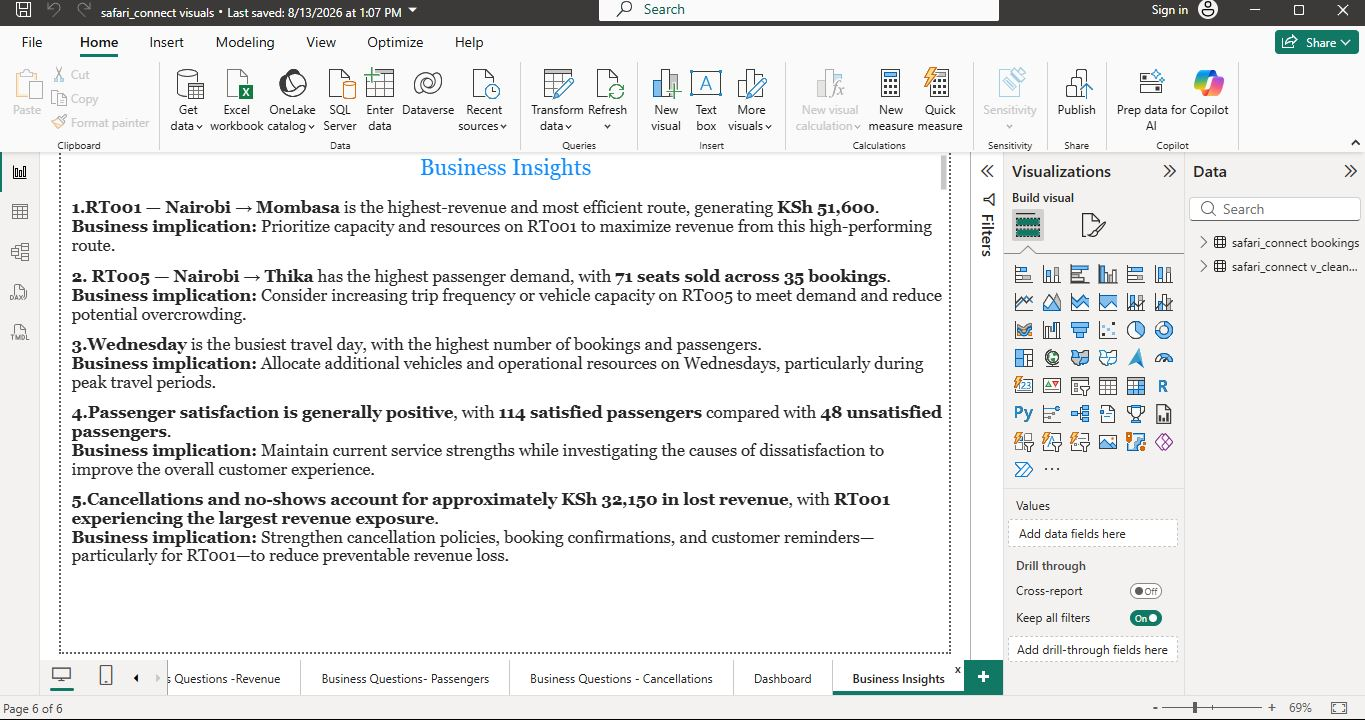

The page's visual inventory and layout, read from the dashboard file:
{"tool":"powerbi","page":{"name":"Business Insights","canvas":[1280,720],"ordinal":5},"visuals":[{"type":"textbox","box":[10.1,0,1269.9,60.8],"z":0},{"type":"textbox","box":[10.1,60.8,1269.9,634.9],"z":1000}]}

Visuals, with their boxes on the page's 1280x720 design canvas (x1, y1, x2, y2). These are canvas units, not pixel positions in the 1365x720 screenshot, which may show the page scaled, cropped or inside an application window:
textbox: rect(10, 0, 1280, 61)
textbox: rect(10, 61, 1280, 696)
